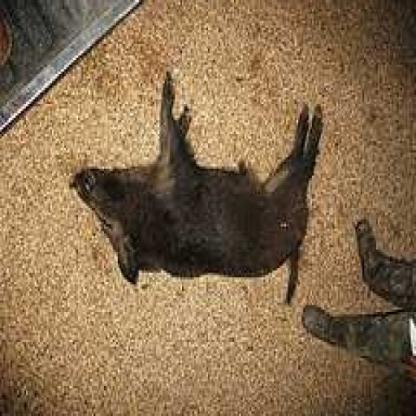boar: (57, 73, 361, 296)
